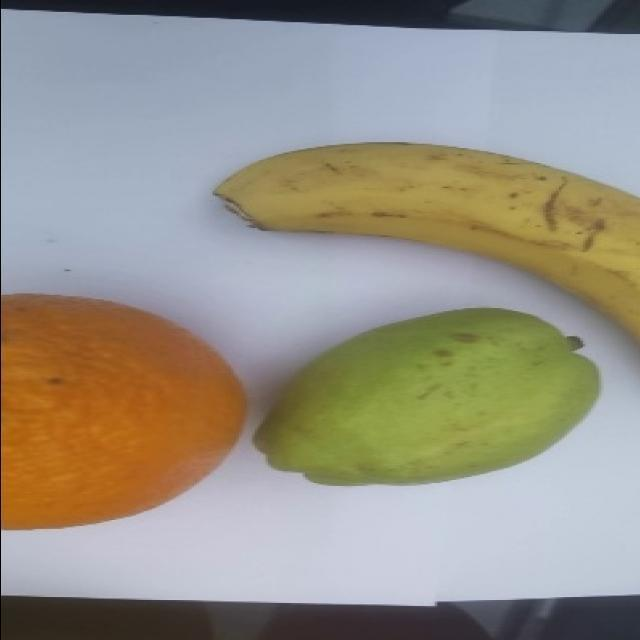Banana: (212, 136, 640, 316)
Orange: (0, 293, 252, 532)
